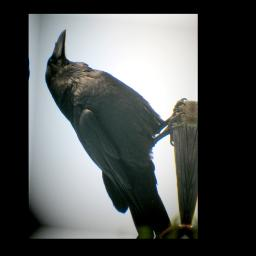Crow: (35, 25, 191, 238)
